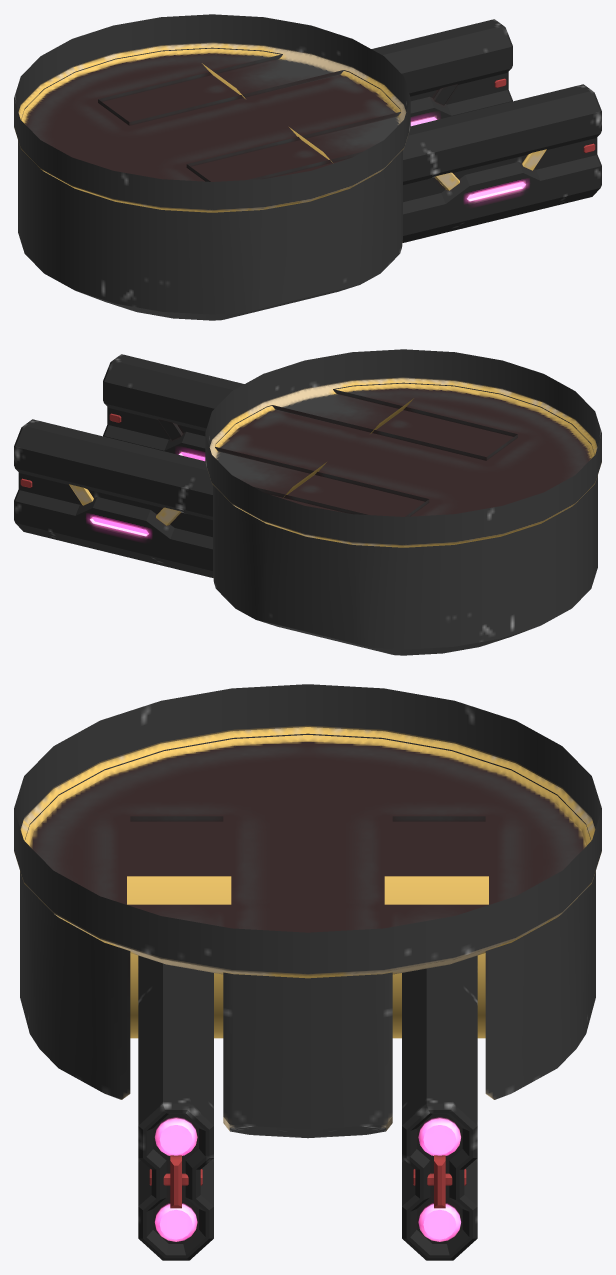
Rendered from cannon-2fbx.fbx.
3 views of the same model, one above another, from view 1: azimuth 30°, elevation 25°; view 2: azimuth 150°, elevation 25°; view 3: azimuth 270°, elevation 25° (orthographic). The views are drawn at different scales.
Parts seen in each view (by area): view 1: HSMS_Aquamarine_mat_sexybeam_0.4493, HSMS_Aquamarine_mat_sexybeam_0.012, HSMS_Aquamarine_mat_sexybeam_0.106, HSMS_Aquamarine_mat_sexybeam_0.105; view 2: HSMS_Aquamarine_mat_sexybeam_0.4493, HSMS_Aquamarine_mat_sexybeam_0.012, HSMS_Aquamarine_mat_sexybeam_0.105, HSMS_Aquamarine_mat_sexybeam_0.106; view 3: HSMS_Aquamarine_mat_sexybeam_0.4493, HSMS_Aquamarine_mat_sexybeam_0.012, HSMS_Aquamarine_mat_sexybeam_0.106, HSMS_Aquamarine_mat_sexybeam_0.105, HSMS_Aquamarine_mat_sexybeam_0.4486, HSMS_Aquamarine_mat_sexybeam_0.4488.
Part boxes in pixels (left/top/right/bottom): HSMS_Aquamarine_mat_sexybeam_0.4493: left=18, top=47, right=402, bottom=320; HSMS_Aquamarine_mat_sexybeam_0.012: left=14, top=14, right=410, bottom=212; HSMS_Aquamarine_mat_sexybeam_0.106: left=402, top=84, right=601, bottom=242; HSMS_Aquamarine_mat_sexybeam_0.105: left=371, top=19, right=512, bottom=126; HSMS_Aquamarine_mat_sexybeam_0.4493: left=213, top=382, right=597, bottom=655; HSMS_Aquamarine_mat_sexybeam_0.012: left=205, top=349, right=601, bottom=547; HSMS_Aquamarine_mat_sexybeam_0.105: left=14, top=419, right=213, bottom=577; HSMS_Aquamarine_mat_sexybeam_0.106: left=103, top=354, right=244, bottom=461; HSMS_Aquamarine_mat_sexybeam_0.4493: left=20, top=733, right=595, bottom=1138; HSMS_Aquamarine_mat_sexybeam_0.012: left=14, top=684, right=601, bottom=978; HSMS_Aquamarine_mat_sexybeam_0.106: left=138, top=955, right=213, bottom=1260; HSMS_Aquamarine_mat_sexybeam_0.105: left=402, top=955, right=477, bottom=1260; HSMS_Aquamarine_mat_sexybeam_0.4486: left=127, top=876, right=231, bottom=1038; HSMS_Aquamarine_mat_sexybeam_0.4488: left=384, top=876, right=488, bottom=1038.
Bounding box in the file's own units: 30149 × 8984 × 20415.
